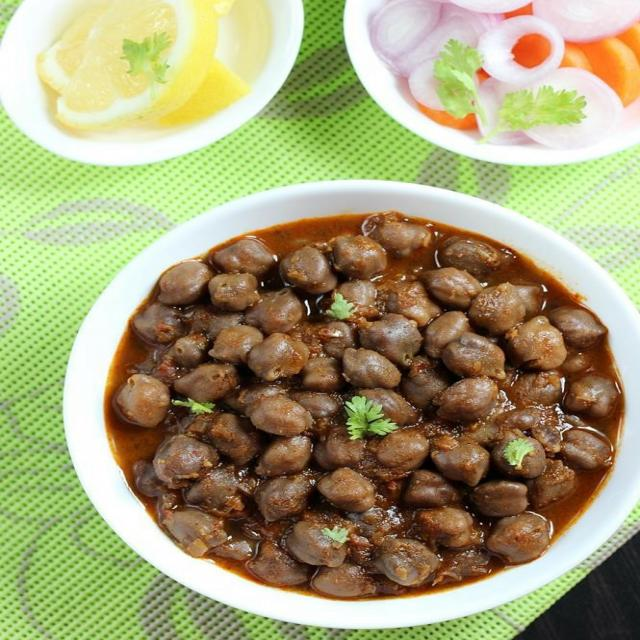Chole: (105, 213, 623, 600)
